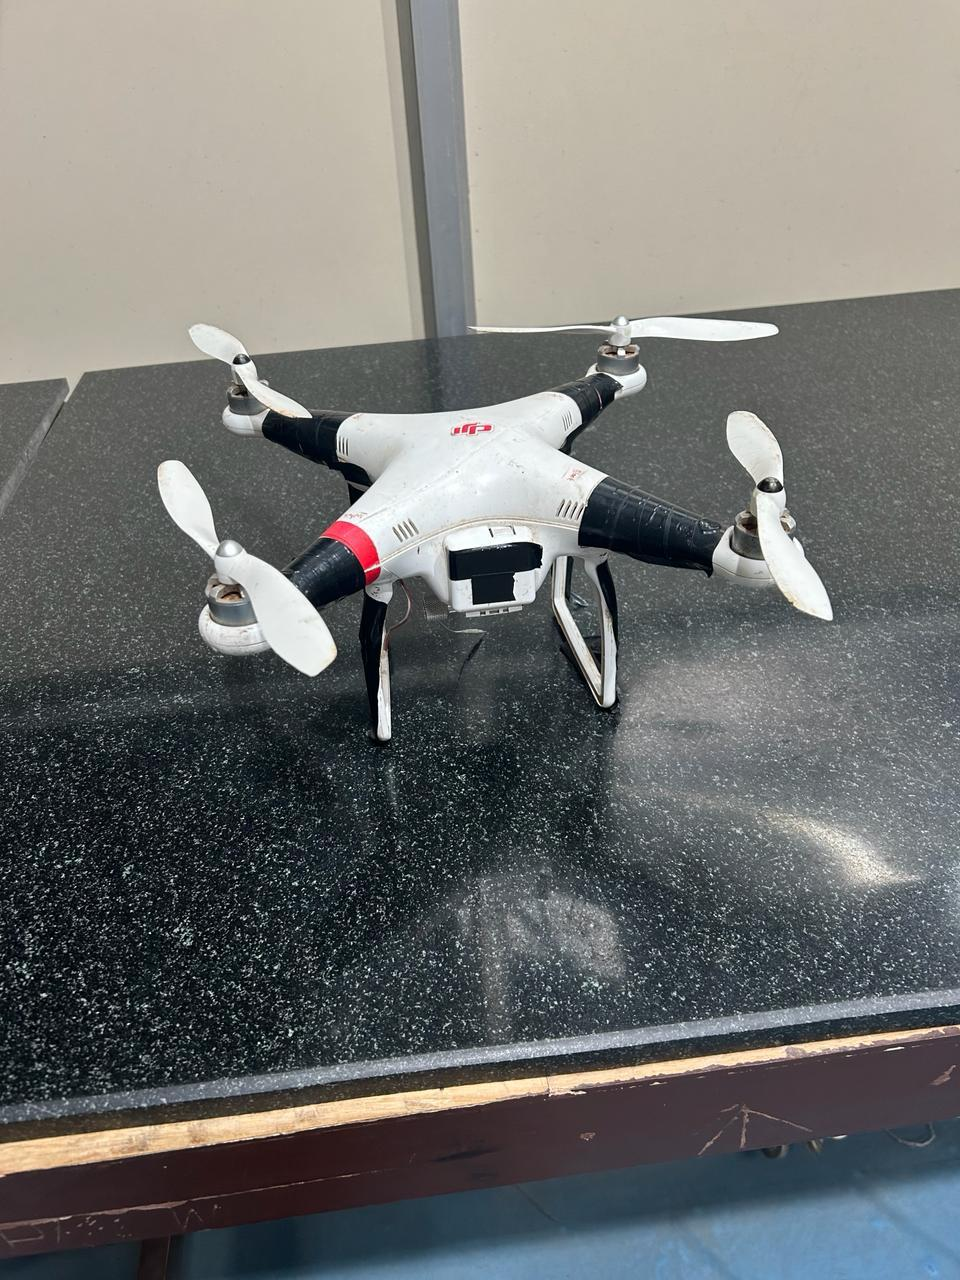drone: (104, 287, 863, 791)
